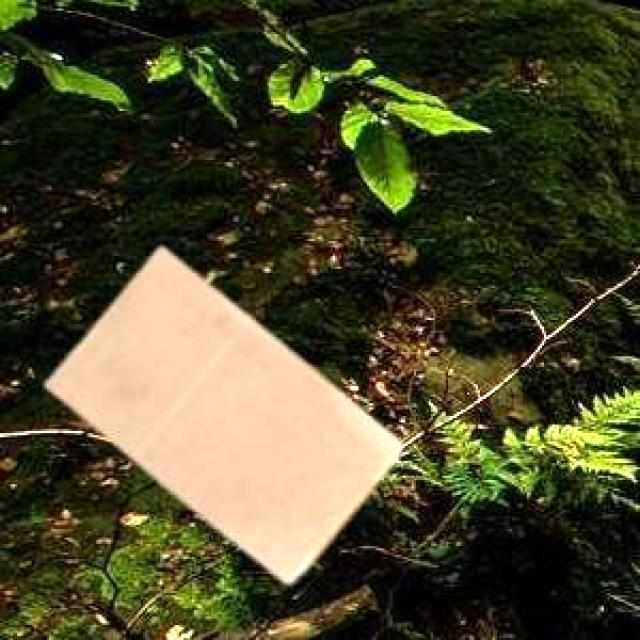Paper_Bag: (44, 244, 398, 579)
